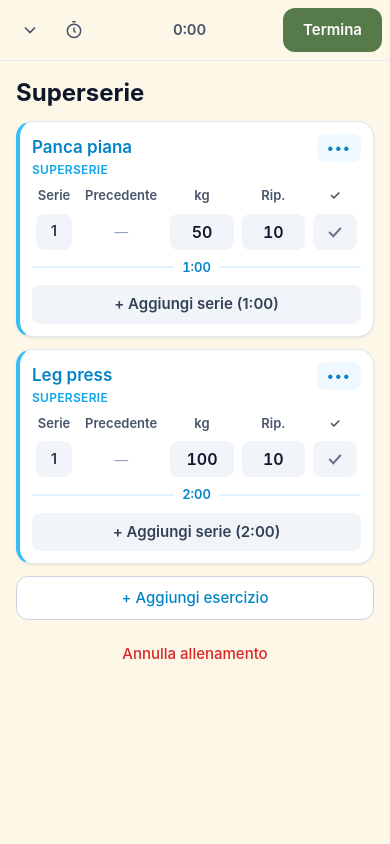
sessione locale nell'IPA › C18: in superserie il riposo parte solo quando si completa l'ultimo esercizio del gruppo
Click the 1st button named "Completa serie 1" at point(335, 232), box [313,214,357,250]
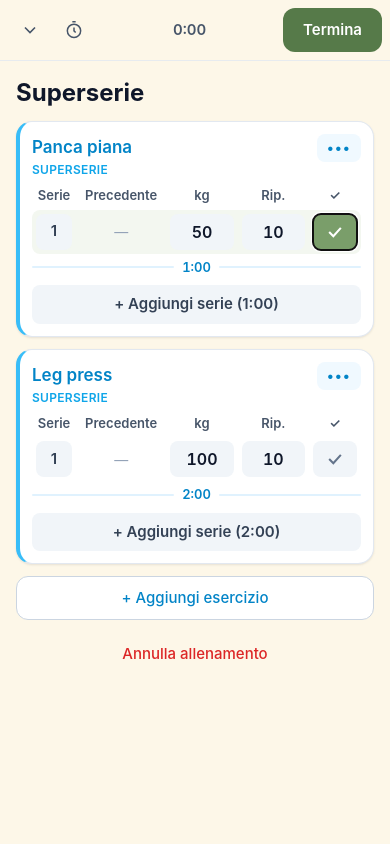
Click the button named "Completa serie 1" at point(335, 459), box [313,441,357,477]
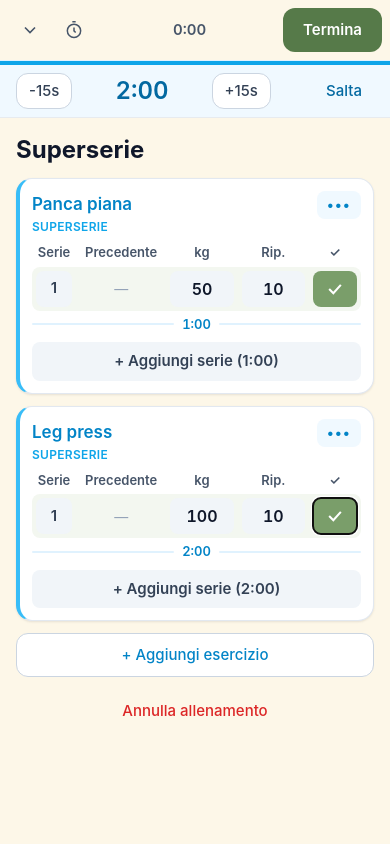
expect the element named "Riposo" shows "2:00": met, box [115,76,168,105]
